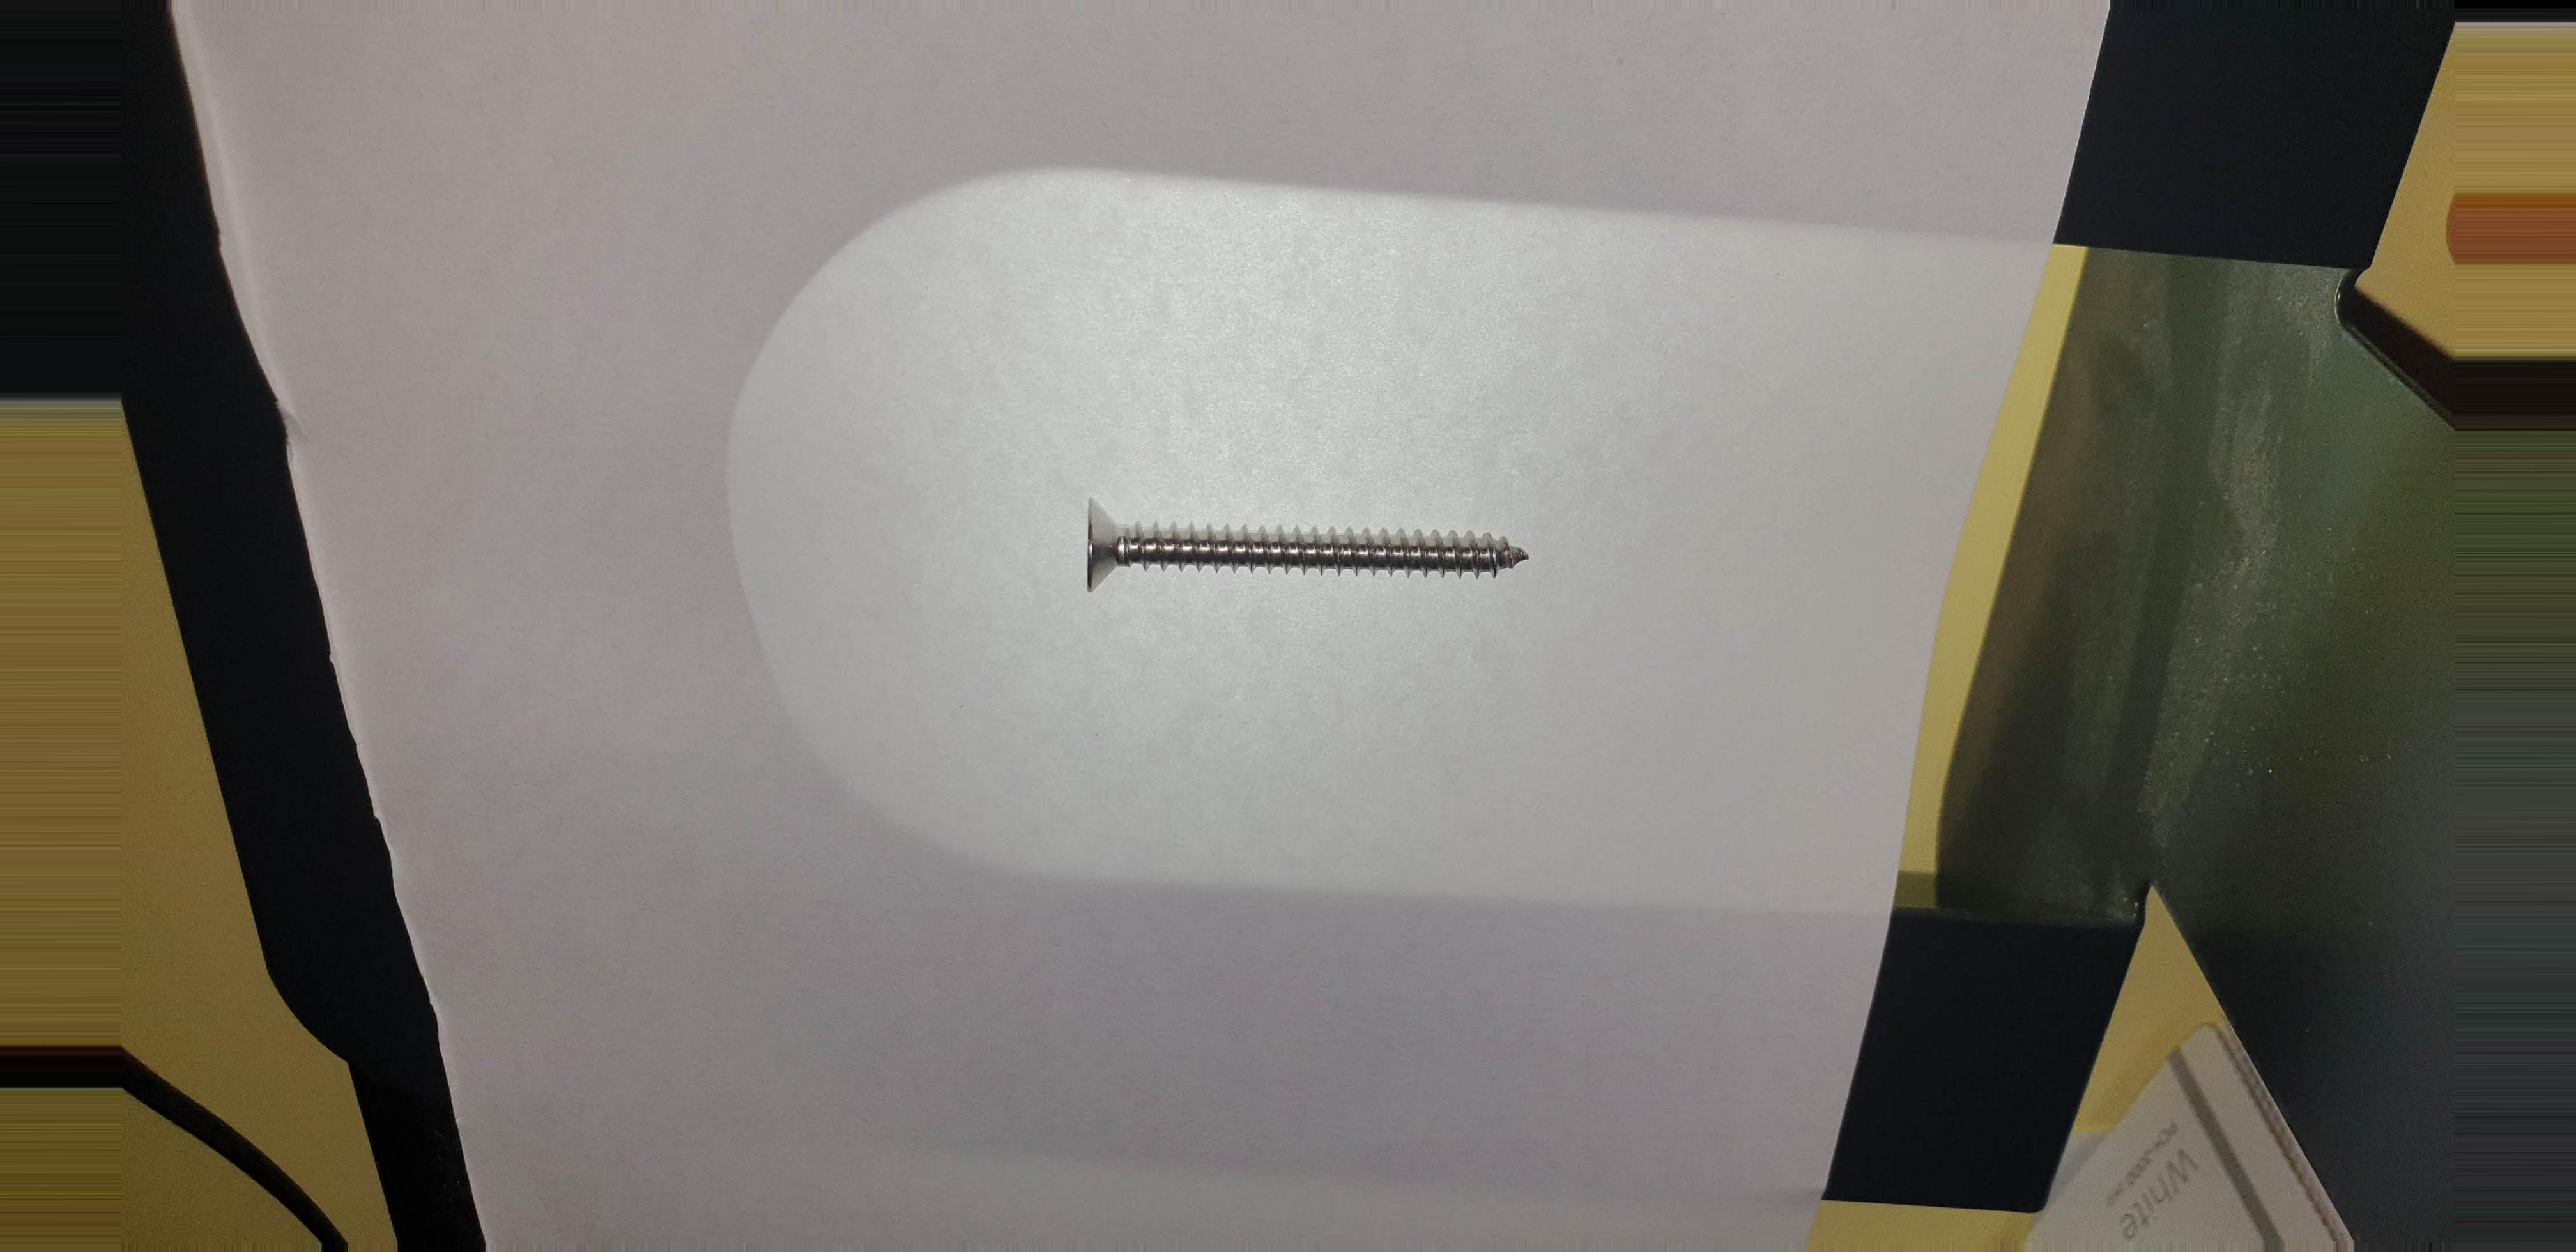fastener: (1035, 465, 1620, 639)
